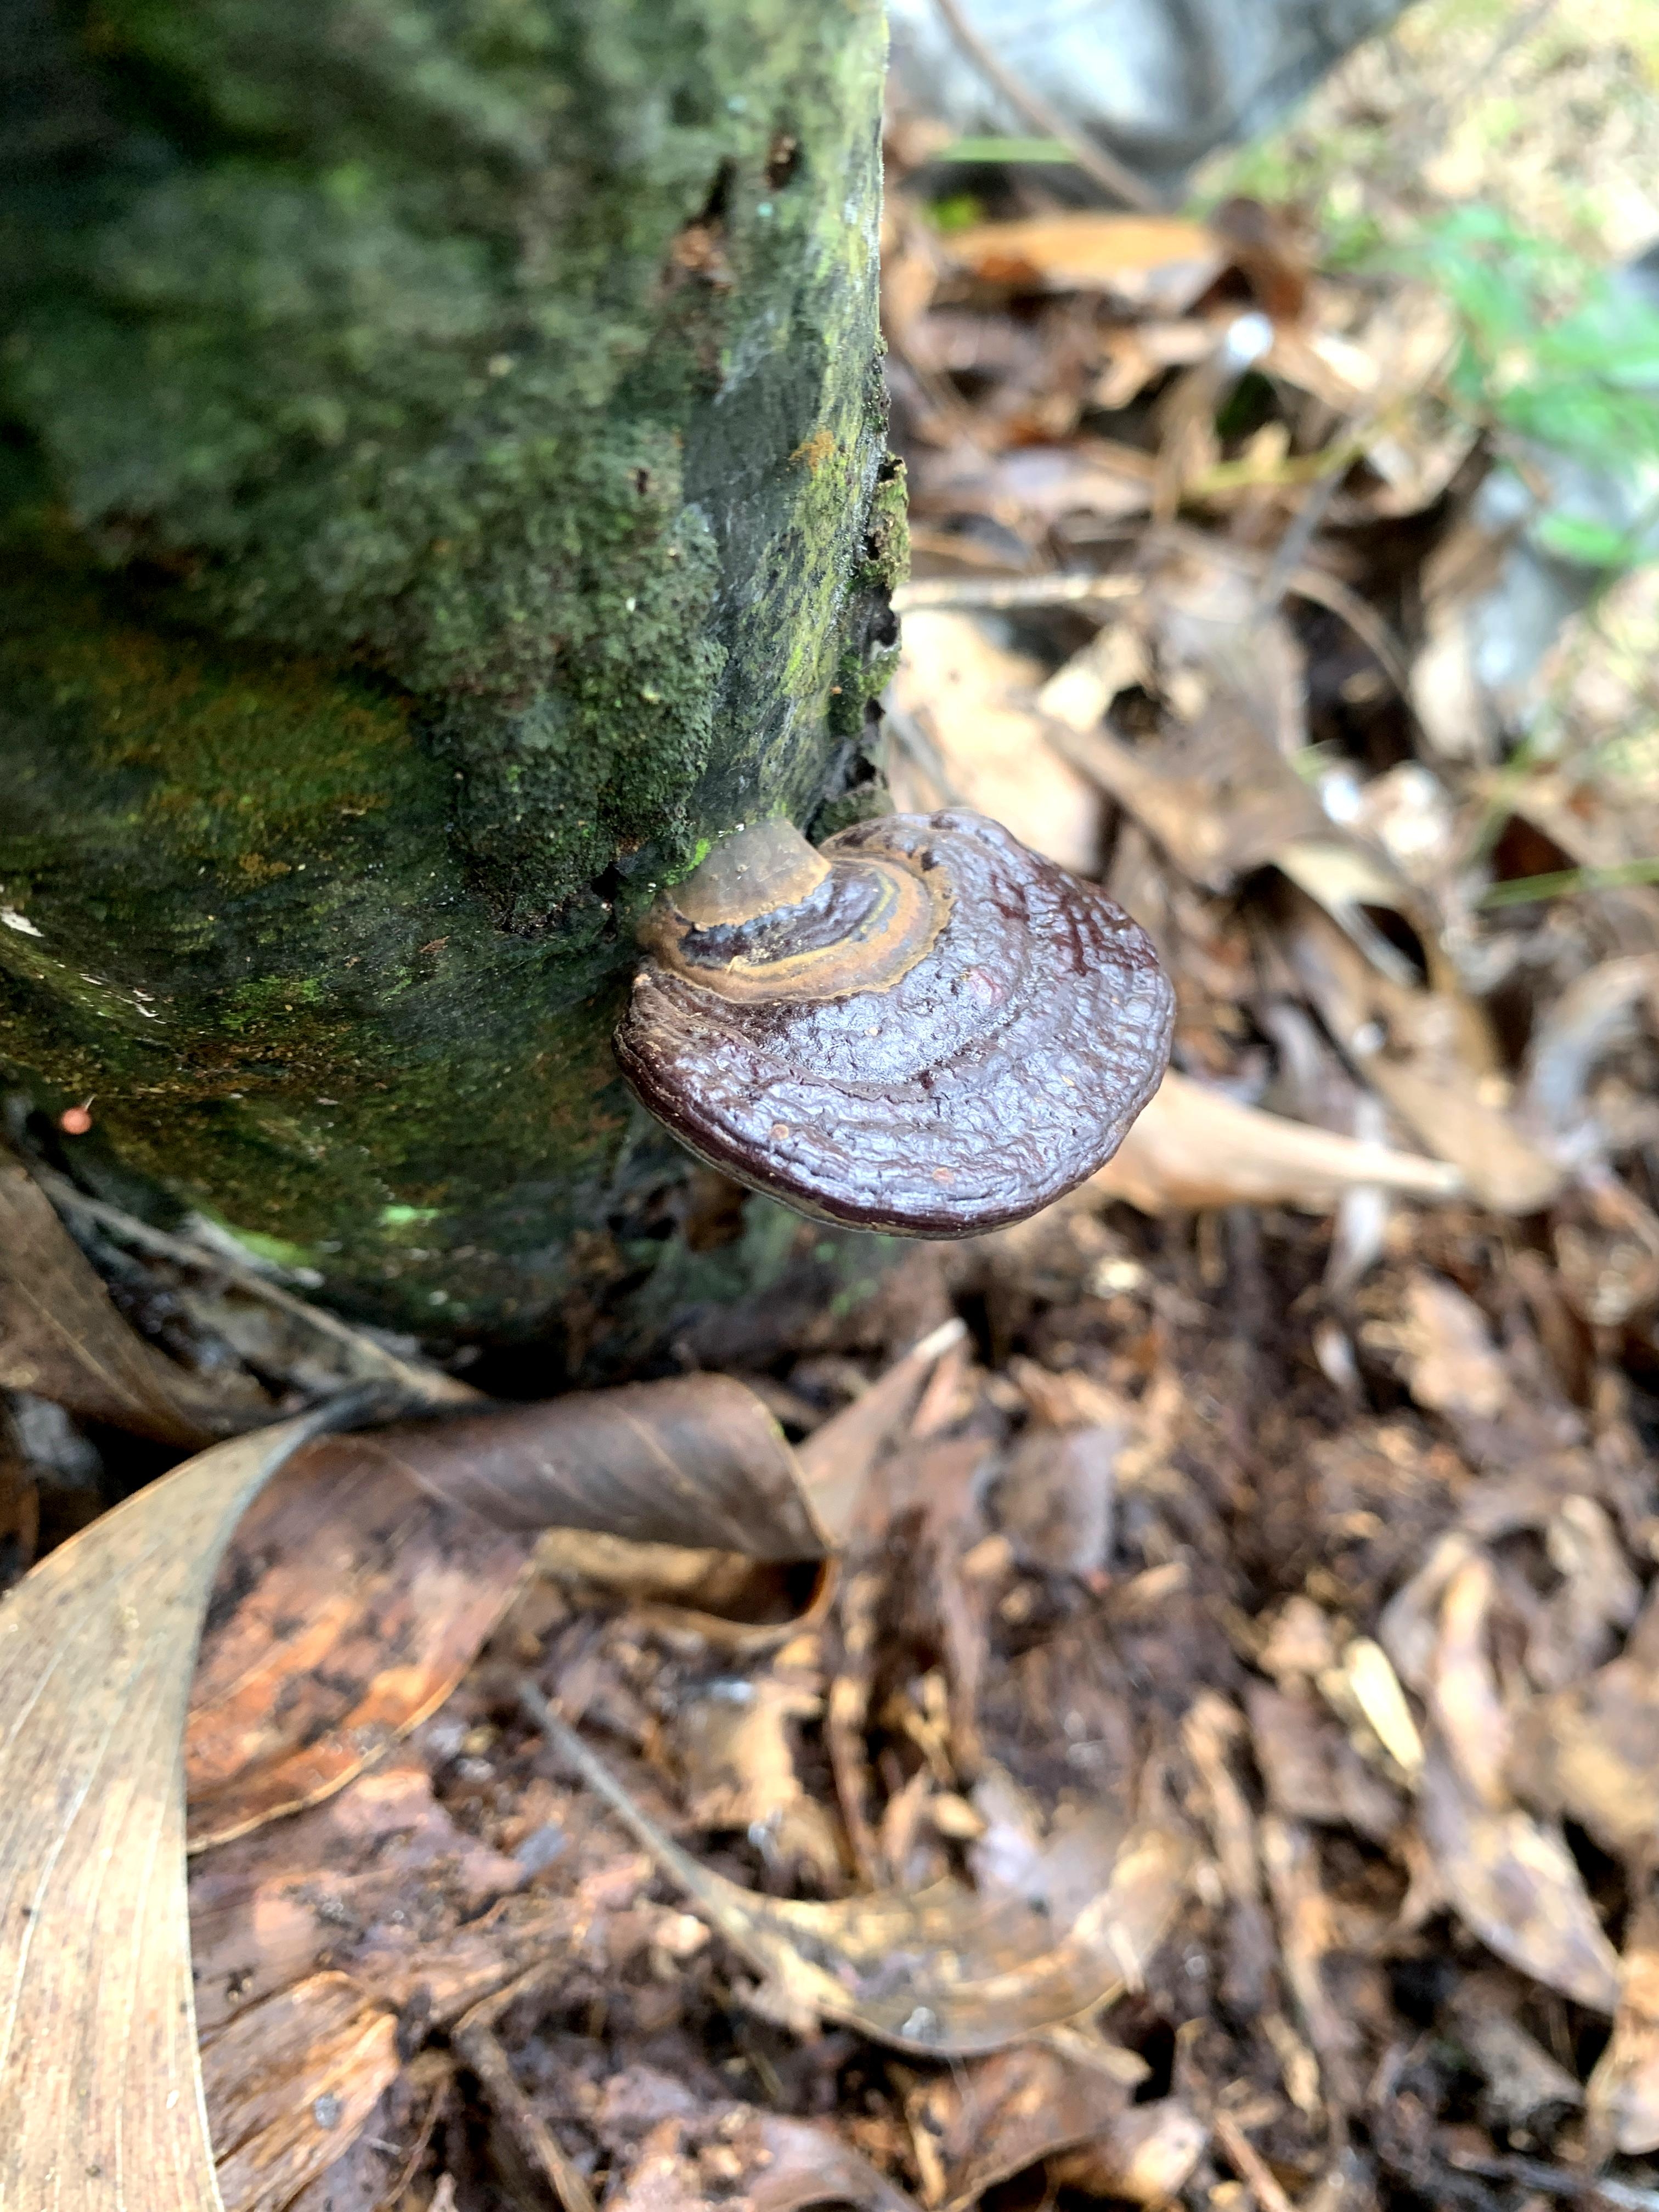Ganoderma - Fruit Body: (582, 796, 1180, 1252)
